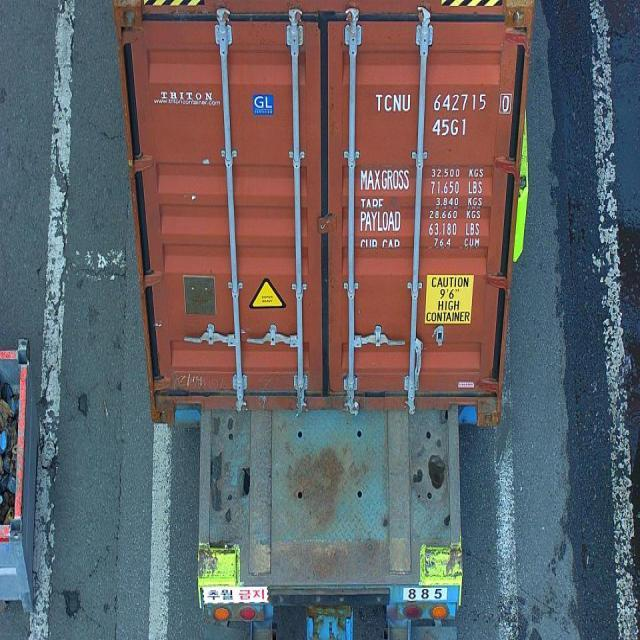ISO: (434, 116, 469, 137)
container_number: (376, 91, 512, 114)
